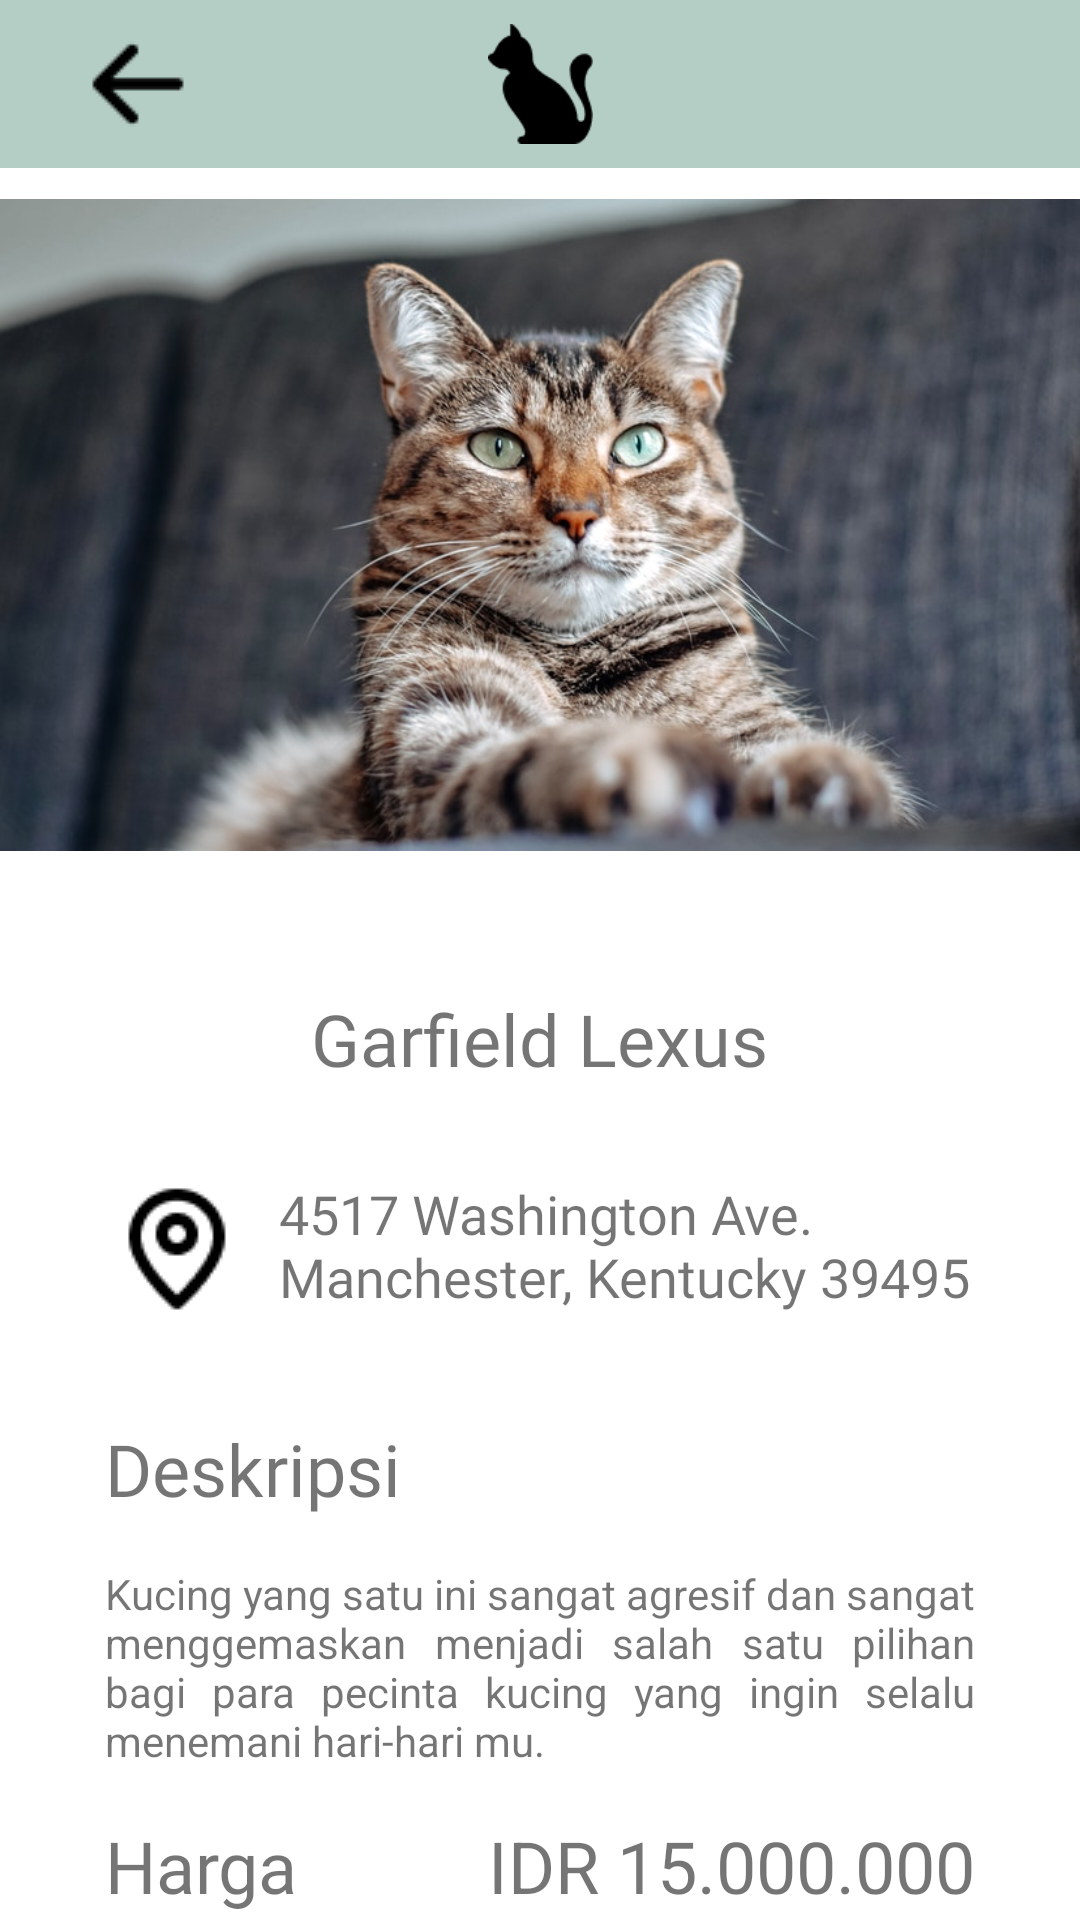

Icon bounding boxes for this 1080x1920 phone screenshot, format [x1=x1, y1=y1, x2=x2, y2=y2]:
back: [x1=92, y1=44, x2=184, y2=124]
location: [x1=128, y1=1188, x2=226, y2=1310]
